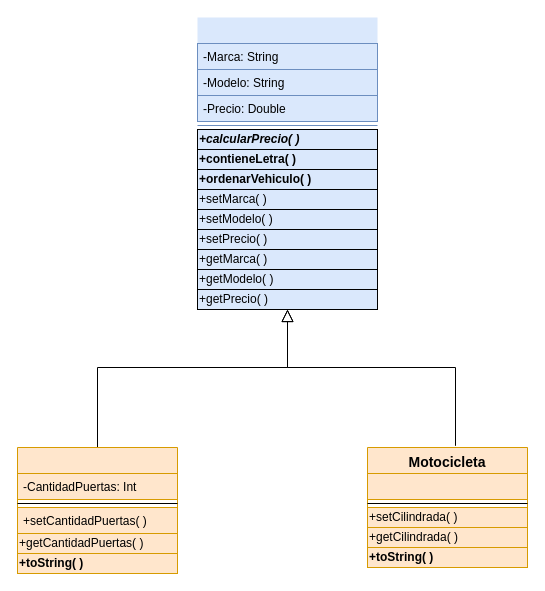
This 545x591 diagram has some shape labels left out. The box of each missing label's shape, as (x1, y1, x2, y2) in pixels:
-Cilindrada: String: (366, 472, 528, 500)
Automóvil: (16, 446, 178, 574)
Vehículo: (197, 17, 377, 309)
